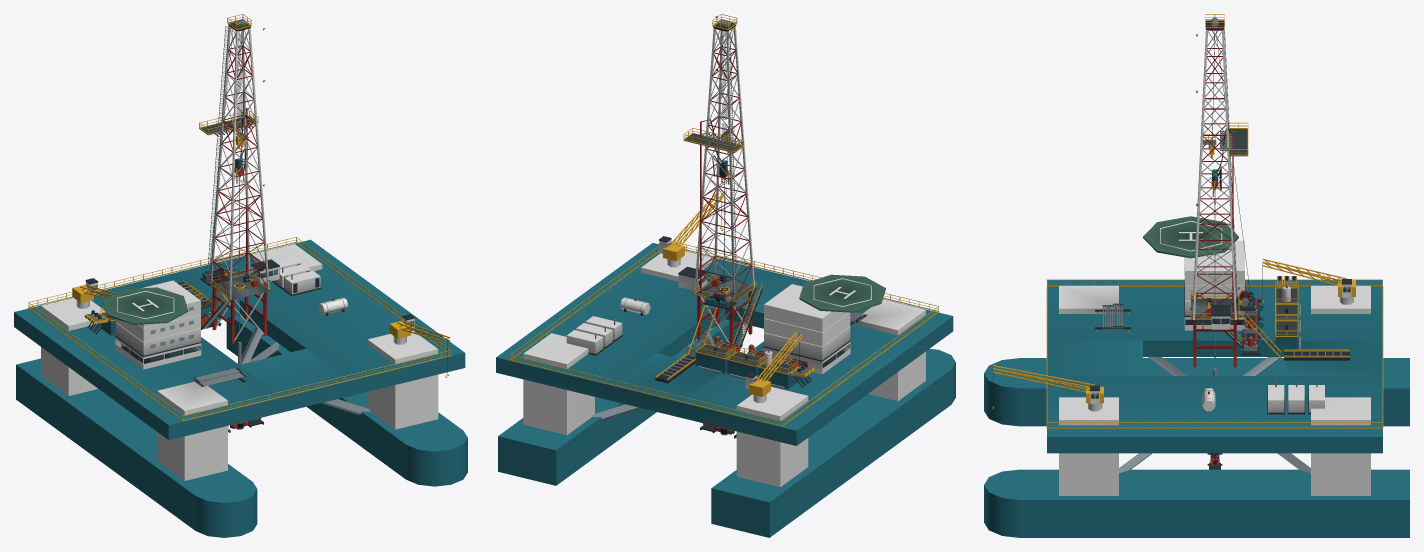
The model's file is semi_submersible_lodL.glb.
3 views of the same model, side by side, from view 1: azimuth 30°, elevation 25°; view 2: azimuth 150°, elevation 25°; view 3: azimuth 270°, elevation 25° (orthographic). The views are drawn at different scales.
Visible parts, largest first — view 1: main_deck_surface_blue, pontoons_surface_blue, columns_surface_white, derrick_surface_white, accommodation_surface_white, deck_handrails_surface_yellow, helideck_surface_green, derrick_surface_red, generators_surface_white, columns_surface_steel, substructure_surface_red, ladder_surface_steel (+5 smaller); view 2: main_deck_surface_blue, pontoons_surface_blue, columns_surface_white, accommodation_surface_white, derrick_surface_white, deck_handrails_surface_yellow, helideck_surface_green, derrick_surface_red, generators_surface_white, mud_tanks_surface_blue, ladder_surface_steel, mud_tanks_surface_yellow (+7 smaller); view 3: main_deck_surface_blue, pontoons_surface_blue, columns_surface_white, derrick_surface_white, deck_handrails_surface_yellow, accommodation_surface_white, helideck_surface_green, derrick_surface_red, generators_surface_white, columns_surface_steel, deck_crane_1_surface_yellow, mud_tanks_surface_deck (+6 smaller).
Boxes of the visible parts, box(x1,y1,x2,y2) form: main_deck_surface_blue: box(14, 239, 465, 439); pontoons_surface_blue: box(16, 315, 467, 537); columns_surface_white: box(41, 244, 438, 480); derrick_surface_white: box(210, 26, 269, 299); accommodation_surface_white: box(115, 280, 201, 369); deck_handrails_surface_yellow: box(28, 237, 451, 421); helideck_surface_green: box(103, 287, 188, 324); derrick_surface_red: box(211, 28, 267, 296); generators_surface_white: box(273, 257, 320, 294); columns_surface_steel: box(241, 326, 370, 414); substructure_surface_red: box(212, 287, 266, 343); ladder_surface_steel: box(206, 26, 228, 285); main_deck_surface_blue: box(496, 243, 953, 445); pontoons_surface_blue: box(498, 319, 955, 537); columns_surface_white: box(523, 251, 925, 487); accommodation_surface_white: box(763, 284, 850, 374); derrick_surface_white: box(694, 26, 754, 301); deck_handrails_surface_yellow: box(510, 241, 939, 426); helideck_surface_green: box(799, 274, 885, 312); derrick_surface_red: box(696, 29, 753, 300); generators_surface_white: box(566, 316, 622, 354); mud_tanks_surface_blue: box(695, 353, 797, 389); ladder_surface_steel: box(727, 32, 737, 304); mud_tanks_surface_yellow: box(695, 339, 798, 374); main_deck_surface_blue: box(1047, 279, 1382, 453); pontoons_surface_blue: box(984, 358, 1409, 537); columns_surface_white: box(1059, 285, 1370, 495); derrick_surface_white: box(1193, 30, 1236, 319); deck_handrails_surface_yellow: box(1046, 280, 1383, 428); accommodation_surface_white: box(1184, 240, 1245, 330); helideck_surface_green: box(1143, 216, 1238, 258); derrick_surface_red: box(1194, 30, 1236, 318); generators_surface_white: box(1268, 385, 1324, 412); columns_surface_steel: box(1119, 357, 1310, 472); deck_crane_1_surface_yellow: box(992, 365, 1103, 409); mud_tanks_surface_deck: box(1276, 288, 1297, 337).
Bounding box in the file's own units: 62 × 82.58 × 71.
